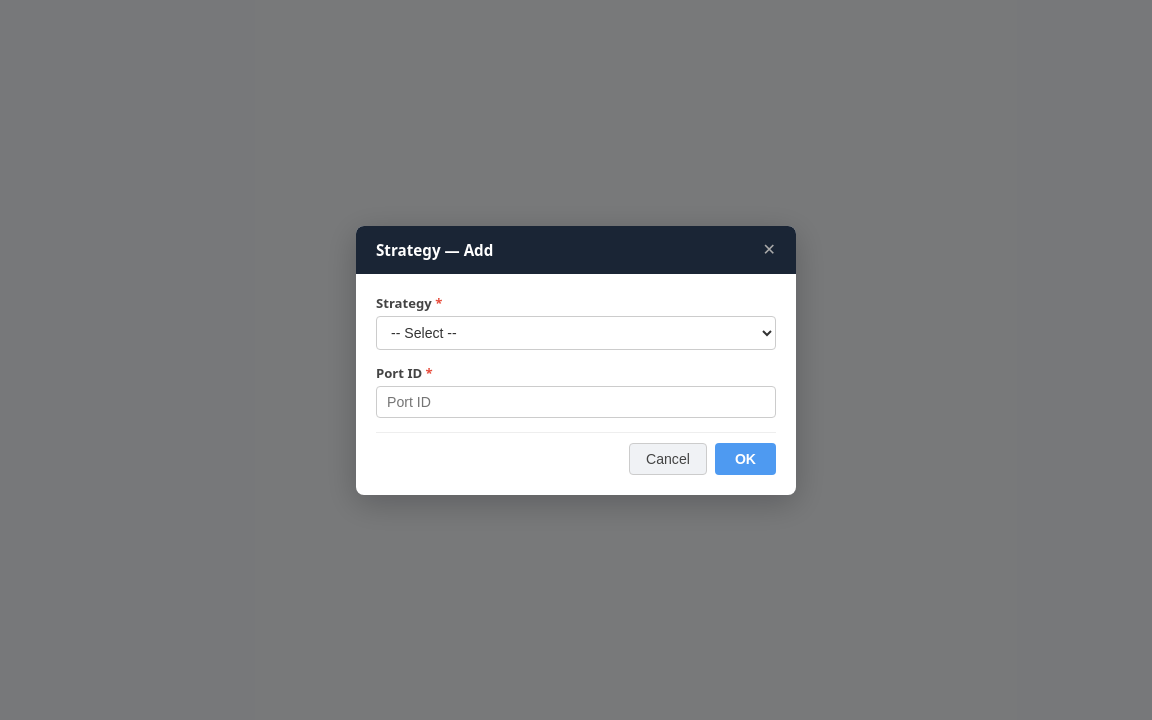
StrategyModal › shows required error when strategy is empty
The image size is (1152, 720).
What coordinates should you click on to do the following:
click the button "OK"
I would click on:
 (745, 458)
Its box is [715,442,776,474].
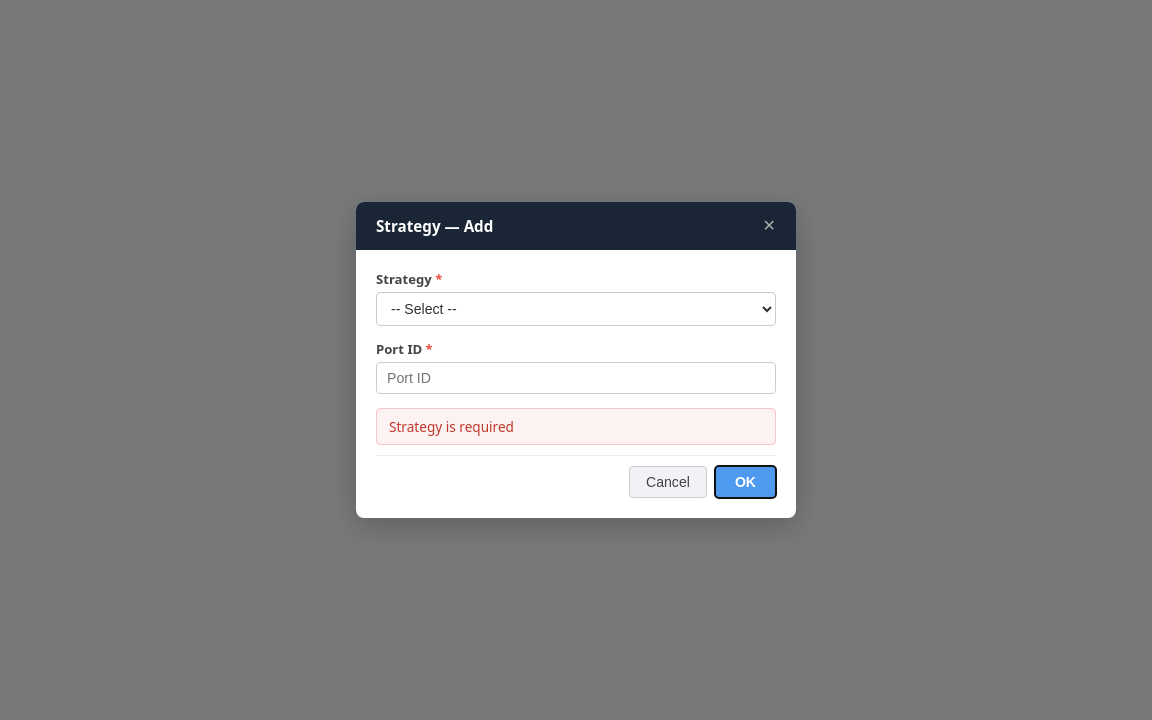
Now the text "Strategy is required" is shown, box [376,408,776,445]
